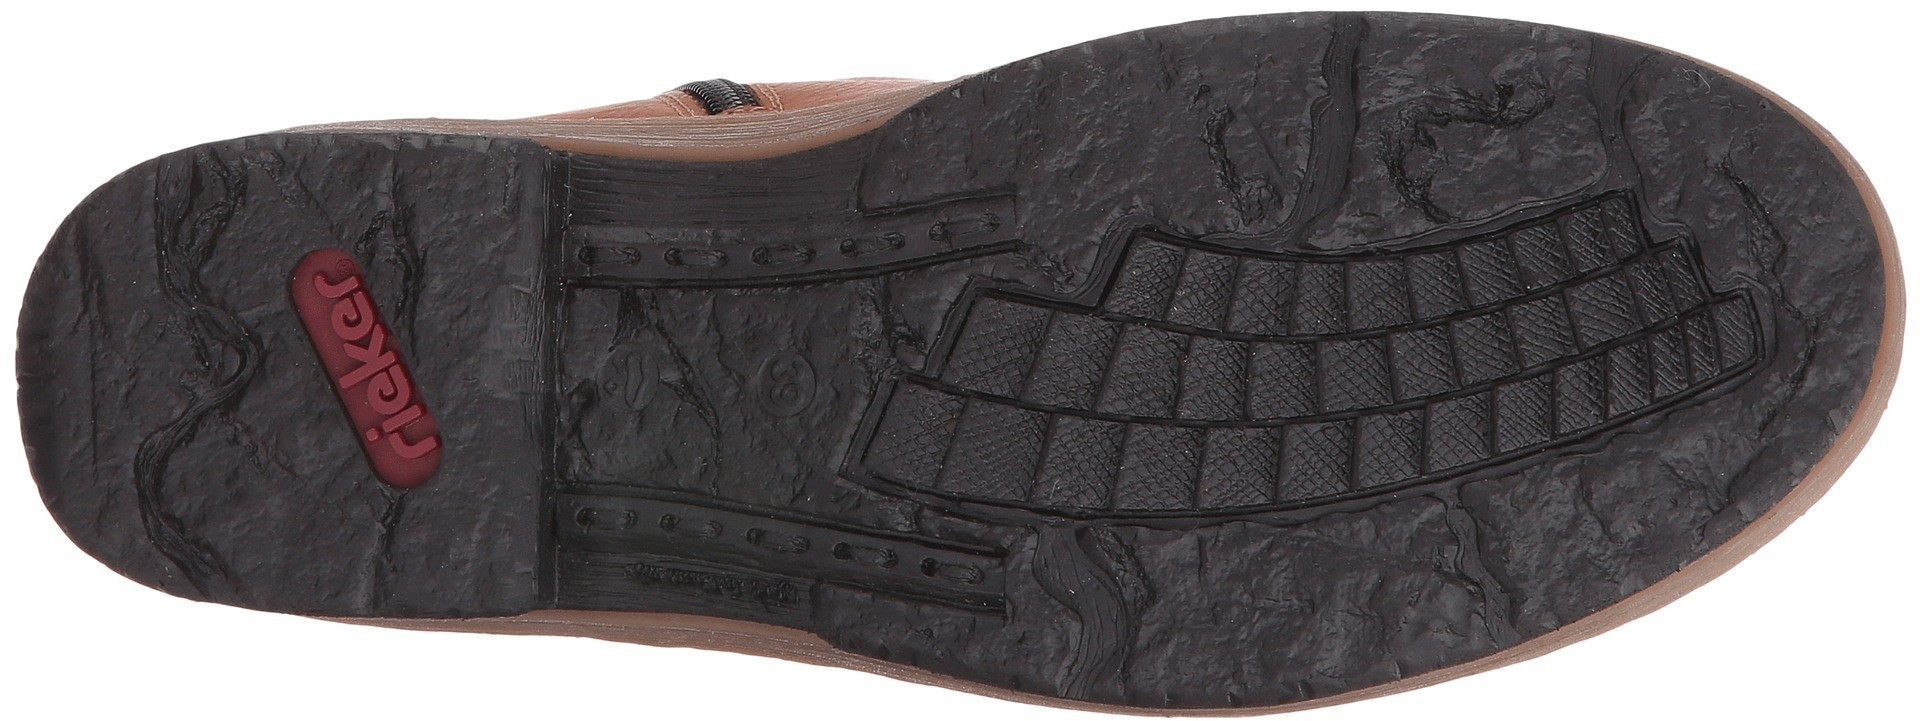circle: (831, 204, 913, 284), (825, 520, 907, 592), (749, 348, 824, 416)
exclude: (538, 143, 696, 624)
other: (49, 253, 294, 495), (1090, 37, 1307, 239), (1359, 17, 1567, 211)
quad: (1122, 251, 1406, 520)
text: (289, 268, 413, 386), (343, 356, 464, 470)
